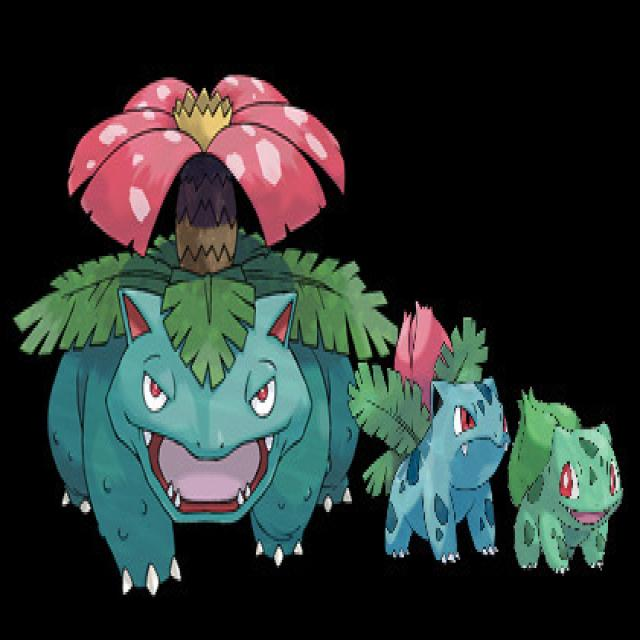Bulbasaur: (514, 404, 621, 575)
Ivysaur: (383, 303, 509, 560)
Venusaur: (66, 68, 344, 560)
